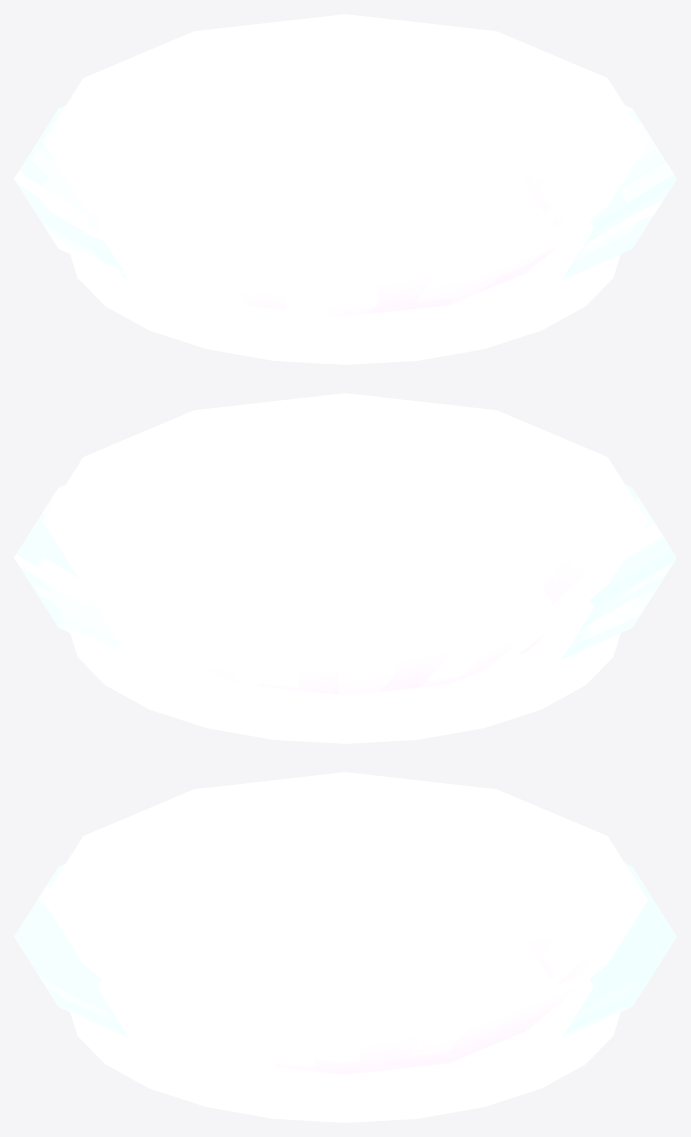
File: p_portal002a.glb
3 renders of one model, top to bottom at view 1: azimuth 30°, elevation 25°; view 2: azimuth 150°, elevation 25°; view 3: azimuth 270°, elevation 25°, orthographic.
Parts seen in each view (by area): view 1: p_portal002a; view 2: p_portal002a; view 3: p_portal002a.
Part boxes in pixels (x1,y1,x2,y2): p_portal002a: [14, 14, 676, 364]; p_portal002a: [14, 393, 676, 743]; p_portal002a: [14, 772, 676, 1122].
Bounding box in the file's own units: 2.18 × 0.3825 × 2.18.
3 materials, 3 textured.
